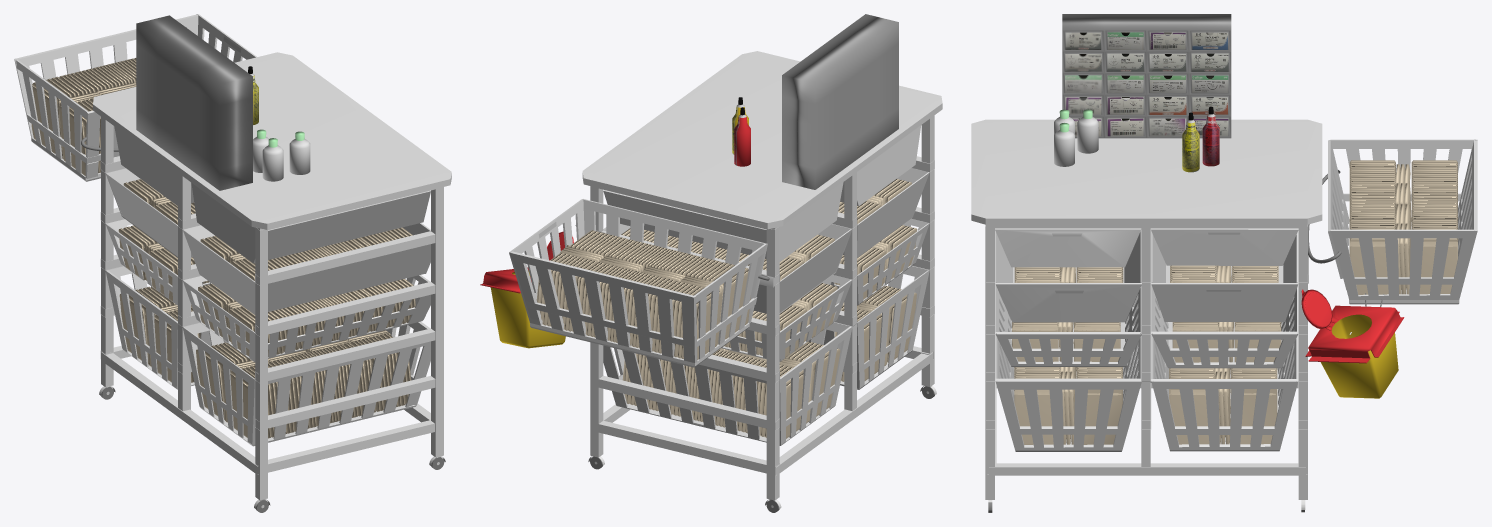
File: meuble_outilschir_1.fbx
3 views of the same model, side by side, from view 1: azimuth 30°, elevation 25°; view 2: azimuth 150°, elevation 25°; view 3: azimuth 270°, elevation 25° (orthographic).
Parts seen in each view (by area): view 1: Furniture, Cube, Cube.209, Cube.313, Cube.001, Cube.625, Bottles, Cube.105, Cube.417, Cube.521; view 2: Furniture, Cube, Cube.001, Cube.105, SpecialBin, Cube.209, Cube.417, Cube.521, Cube.313, Cube.625, Bottles.002; view 3: Furniture, Cube, Cube.001, SpecialBin, Cube.209, Cube.105, Cube.417, Bottles, Cube.313, Cube.521, Cube.625, Bottles.002 (+1 smaller).
Part boxes in pixels (x1,y1,x2,y2): Furniture: [14, 14, 451, 512]; Cube: [136, 15, 252, 190]; Cube.209: [196, 330, 411, 438]; Cube.313: [198, 279, 415, 356]; Cube.001: [30, 58, 136, 175]; Cube.625: [200, 227, 412, 280]; Bottles: [253, 129, 310, 181]; Cube.105: [119, 286, 200, 382]; Cube.417: [118, 225, 209, 301]; Cube.521: [123, 179, 195, 224]; Furniture: [509, 51, 942, 512]; Cube: [782, 14, 898, 189]; Cube.001: [536, 230, 750, 359]; Cube.105: [622, 341, 840, 438]; SpecialBin: [480, 231, 573, 348]; Cube.209: [834, 285, 916, 381]; Cube.417: [723, 283, 837, 357]; Cube.521: [621, 228, 834, 280]; Cube.313: [834, 225, 917, 299]; Cube.625: [838, 179, 911, 223]; Bottles.002: [734, 107, 750, 166]; Furniture: [971, 119, 1477, 512]; Cube: [1062, 14, 1231, 138]; Cube.001: [1349, 160, 1458, 294]; SpecialBin: [1301, 289, 1404, 398]; Cube.209: [1014, 367, 1122, 444]; Cube.105: [1169, 368, 1277, 444]; Cube.417: [1172, 322, 1281, 362]; Bottles: [1054, 109, 1098, 166]; Cube.313: [1012, 322, 1120, 361]; Cube.521: [1170, 265, 1278, 282]; Cube.625: [1014, 267, 1123, 282]; Bottles.002: [1202, 106, 1219, 166].
Size of the model in its own units: 532 by 757 by 851.
